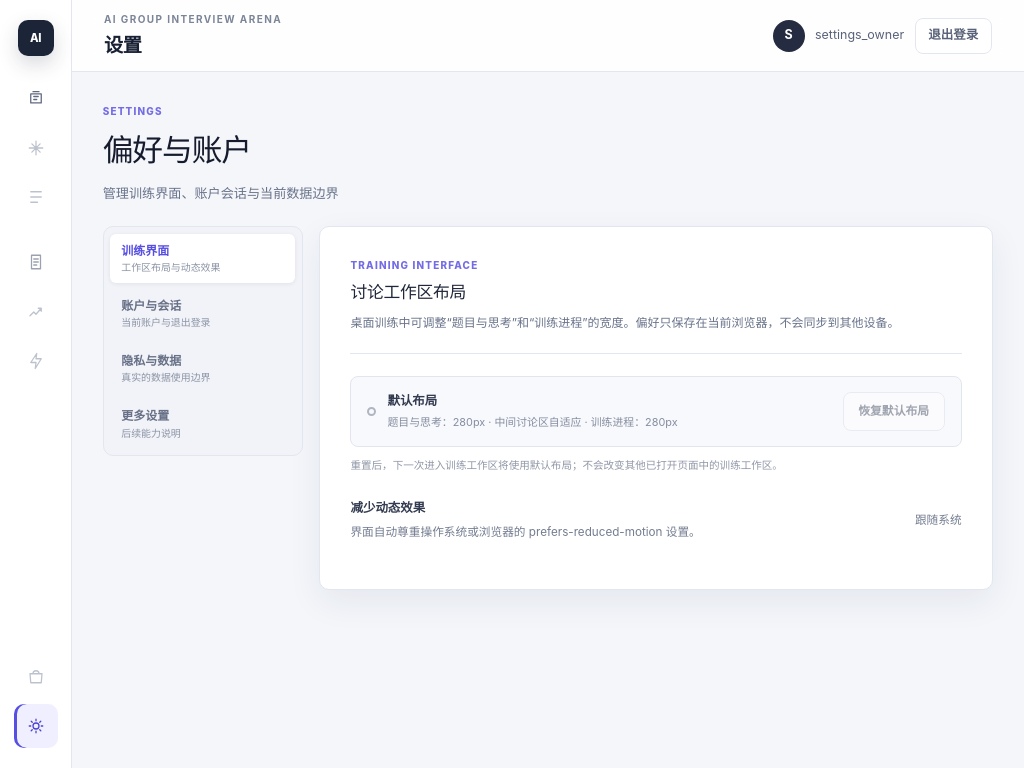
Test: SettingsPageClient › keeps privacy and future sections truthful and non-interactive
Step 1. Click the tab "隐私与数据 真实的数据使用边界" → (203, 369), box [110, 344, 295, 394]
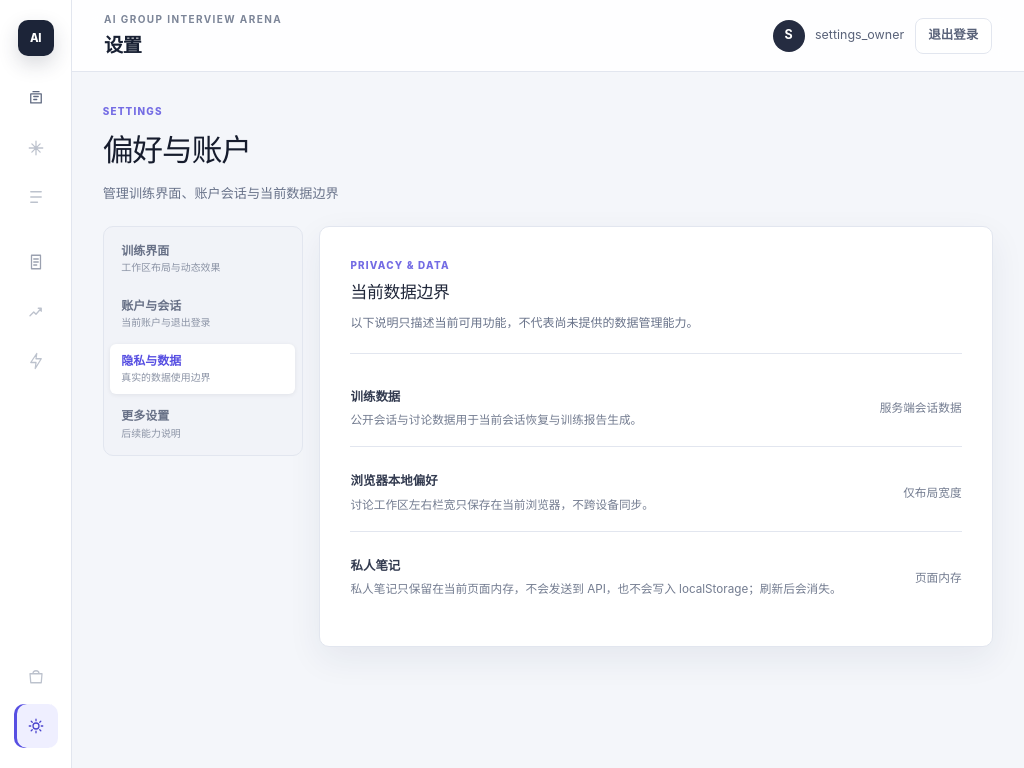
Check: the text "以下说明只描述当前可用功能，不代表尚未提供的数据管理能力。" is shown, box [350, 314, 698, 330]
Check: the text "公开会话与讨论数据用于当前会话恢复与训练报告生成。" is shown, box [350, 411, 642, 430]
Check: the text "私人笔记只保留在当前页面内存，不会发送到 API，也不会写入 localStorage；刷新后会消失。" is shown, box [350, 580, 842, 600]
Step 2. Click the tab "更多设置 后续能力说明" → (203, 424), box [110, 399, 295, 449]
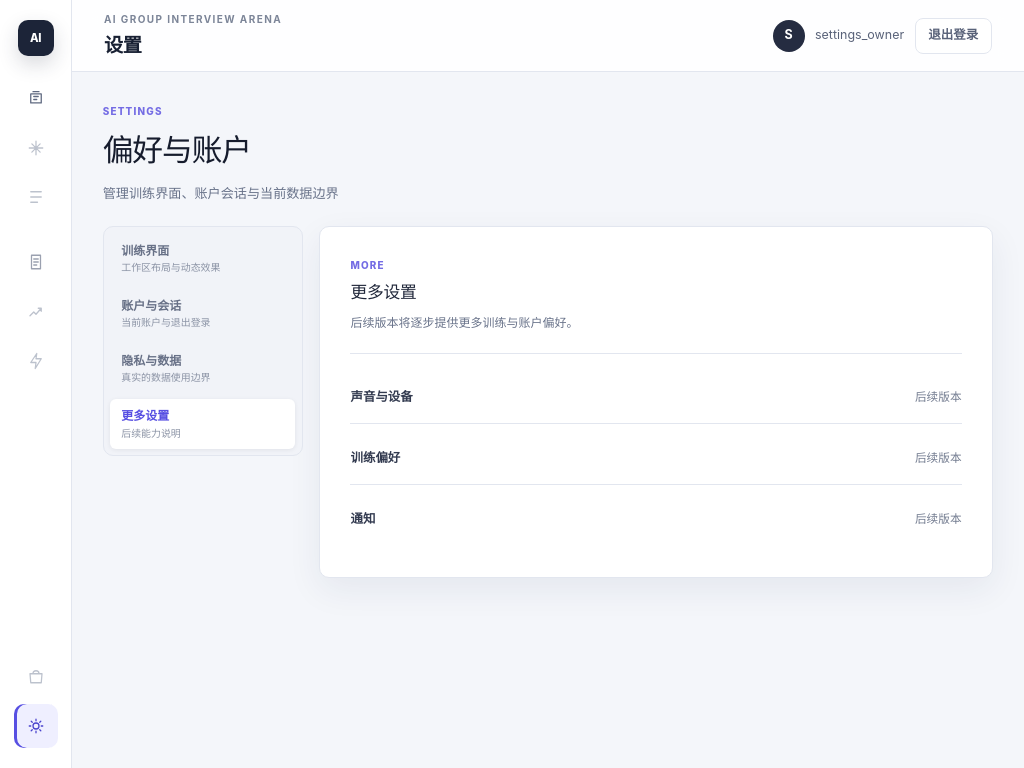
Check: the text "声音与设备" is shown, box [350, 388, 413, 407]
Check: the text "训练偏好" is shown, box [350, 449, 400, 468]
Check: the text "通知" is shown, box [350, 510, 375, 529]
